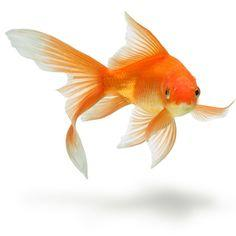goldfish: (68, 37, 221, 143)
